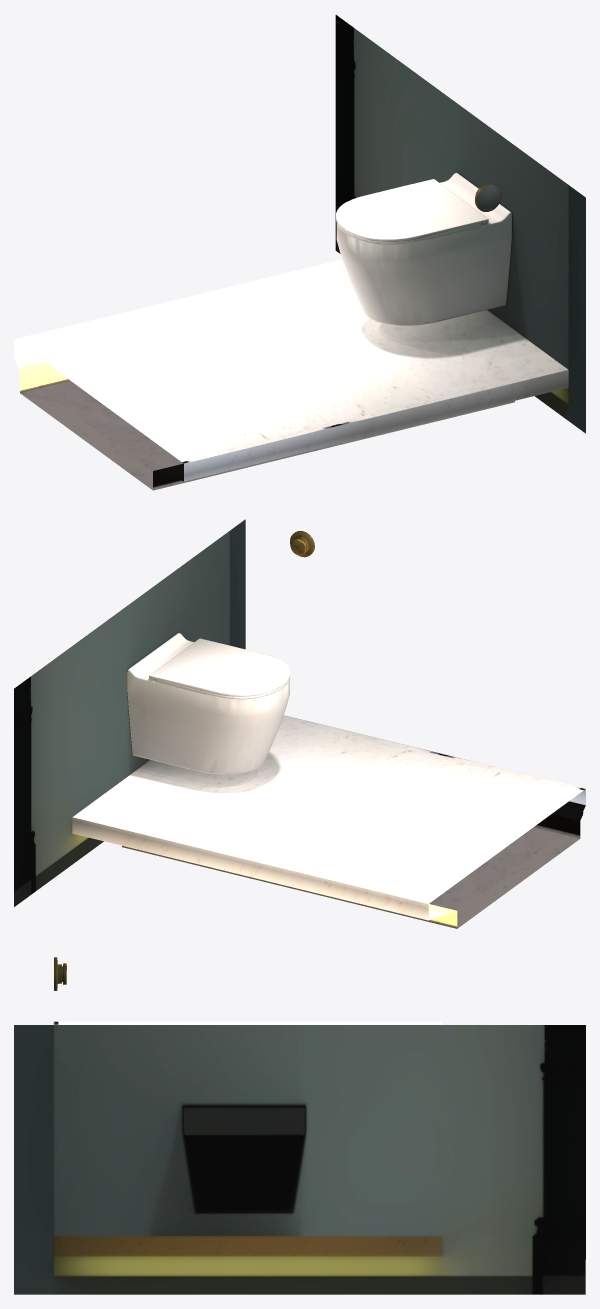
File: Margo_R_final.glb
3 views of the same model, one above another, from view 1: azimuth 30°, elevation 25°; view 2: azimuth 150°, elevation 25°; view 3: azimuth 270°, elevation 25° (orthographic). The views are drawn at different scales.
Visible parts, largest first — view 1: Margo_R_final; view 2: Margo_R_final; view 3: Margo_R_final.
Boxes of the visible parts, <box> form: Margo_R_final: <box>14,15,585,490</box>; Margo_R_final: <box>14,519,585,928</box>; Margo_R_final: <box>14,957,585,1294</box>.
Bounding box in the file's own units: 1.66 × 1.02 × 1.81.
1 material, 1 textured.
